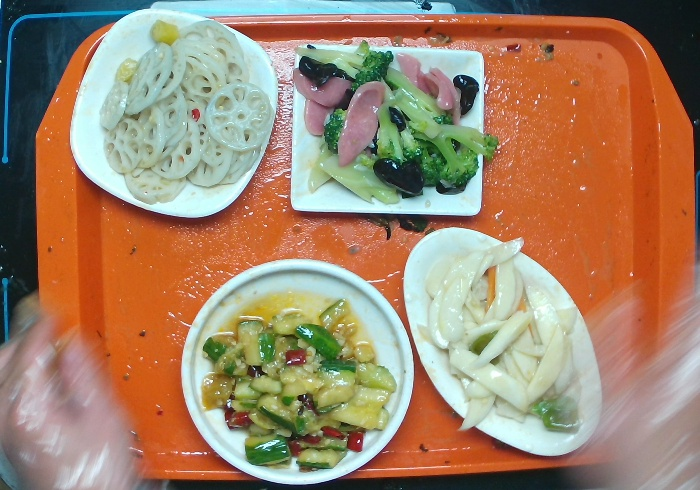HZYJPL-Si_Fang_Die: (283, 44, 493, 219)
HZYJPL-Si_Fang_Yuan_Die: (64, 4, 284, 219)
HZYJPL-Xiao_Yu_Die: (405, 227, 605, 464)
HZYJPL-Xiao_Yuan_Die: (178, 258, 412, 480)
